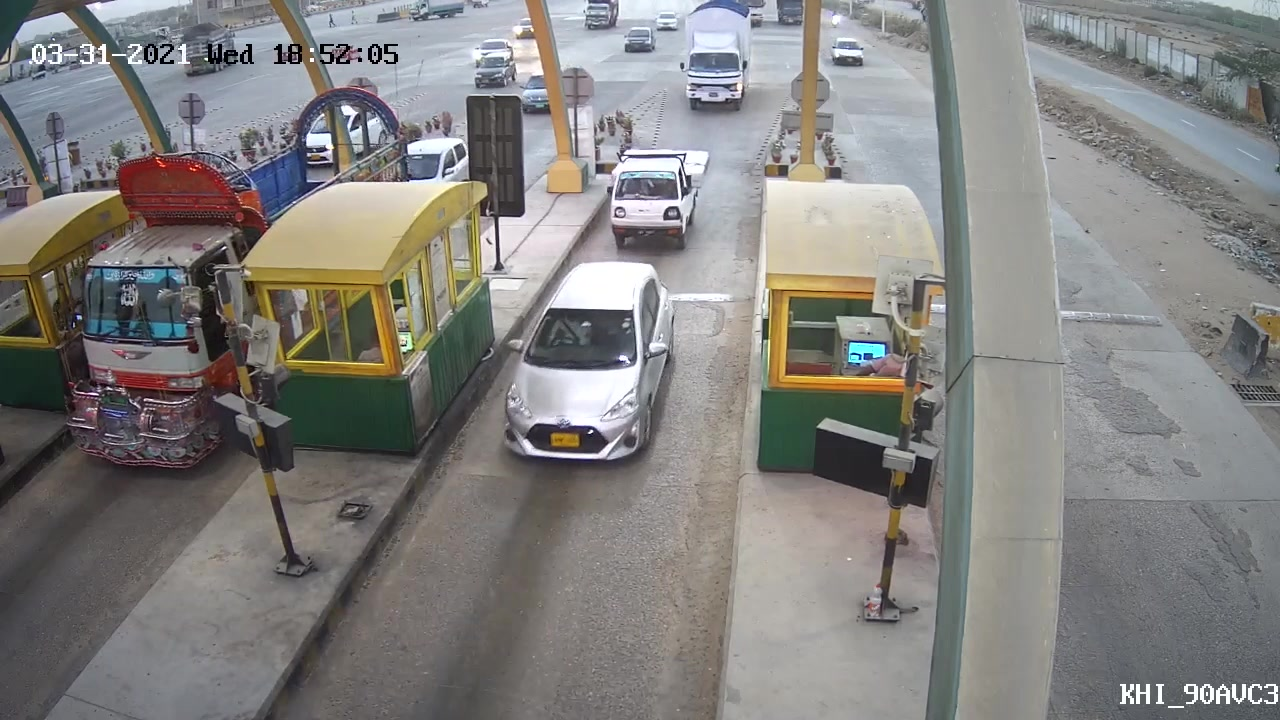F1: (495, 258, 678, 465), (604, 135, 714, 250)
